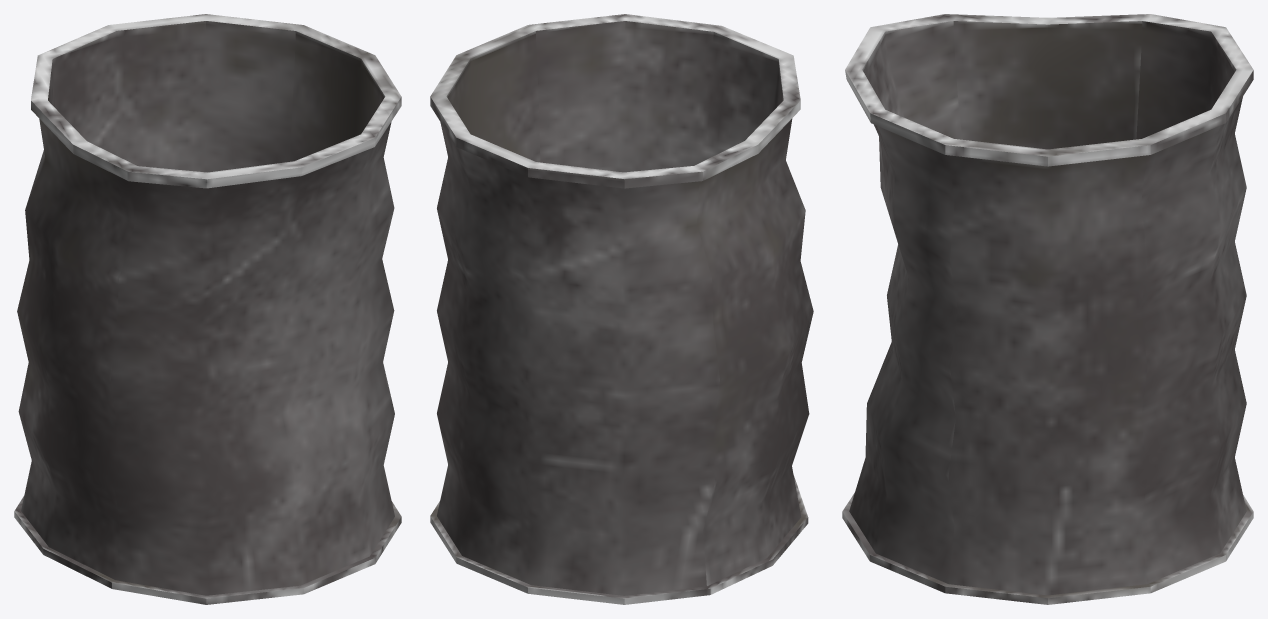
The model's file is SM_Can_01.fbx.
3 views of the same model, side by side, from view 1: azimuth 30°, elevation 25°; view 2: azimuth 150°, elevation 25°; view 3: azimuth 270°, elevation 25° (orthographic). The views are drawn at different scales.
Visible parts, largest first — view 1: SM_Can_01_LOD0; view 2: SM_Can_01_LOD0; view 3: SM_Can_01_LOD0.
Part boxes in pixels (x1,y1,x2,y2): SM_Can_01_LOD0: [14, 14, 401, 604]; SM_Can_01_LOD0: [430, 14, 813, 604]; SM_Can_01_LOD0: [842, 14, 1253, 604].
Size of the model in its own units: 11.01 by 11.2 by 13.47.
Materials: 1 (1 with a texture image).
